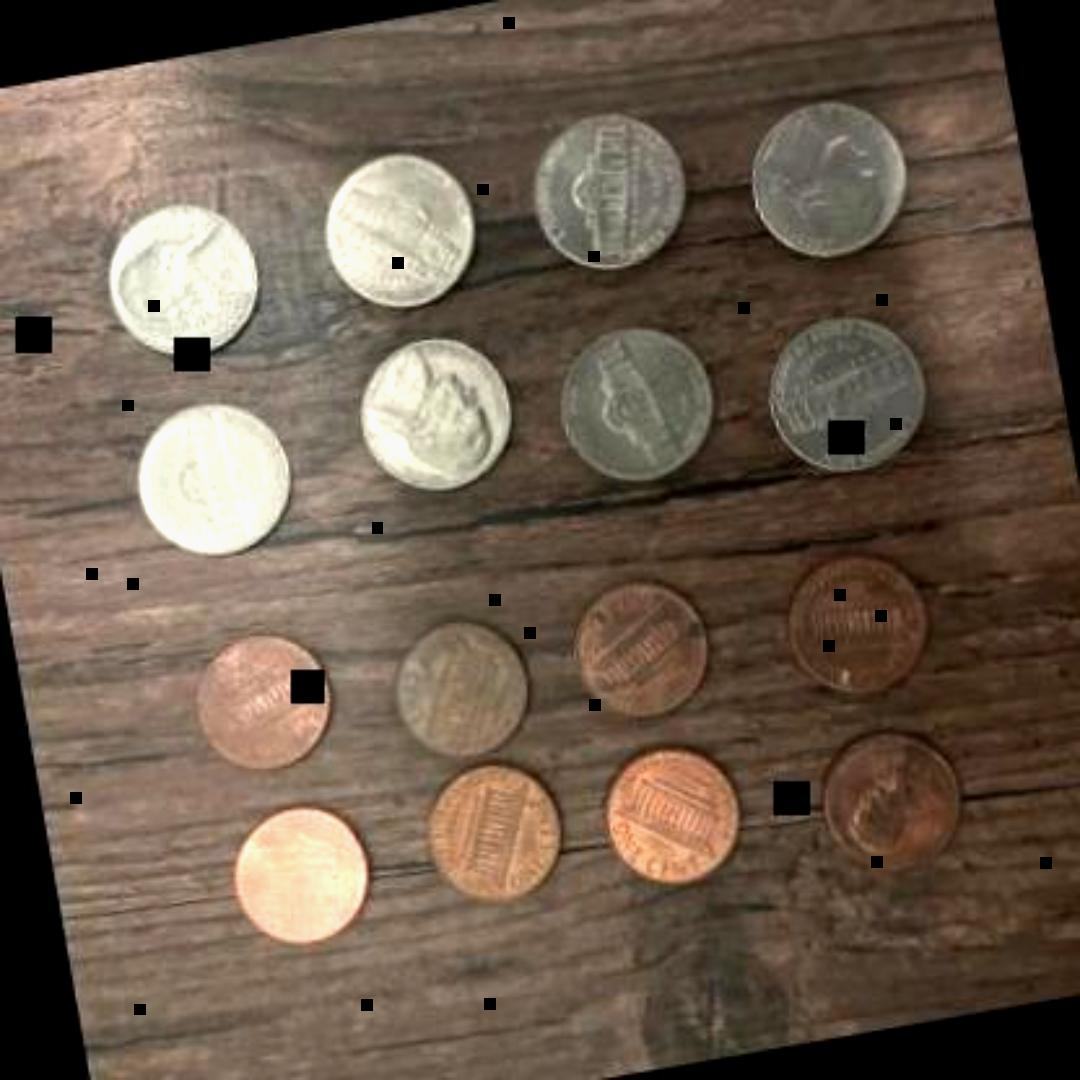Nickel: (730, 82, 914, 276), (87, 185, 268, 374), (540, 307, 720, 495), (120, 392, 304, 574), (749, 302, 933, 483), (514, 106, 696, 286), (339, 328, 515, 506), (304, 142, 480, 320)
Penny: (768, 535, 940, 711), (407, 749, 575, 917), (584, 728, 748, 898), (372, 600, 534, 770), (217, 788, 375, 960), (802, 718, 964, 884), (554, 570, 716, 734), (182, 622, 340, 788)
